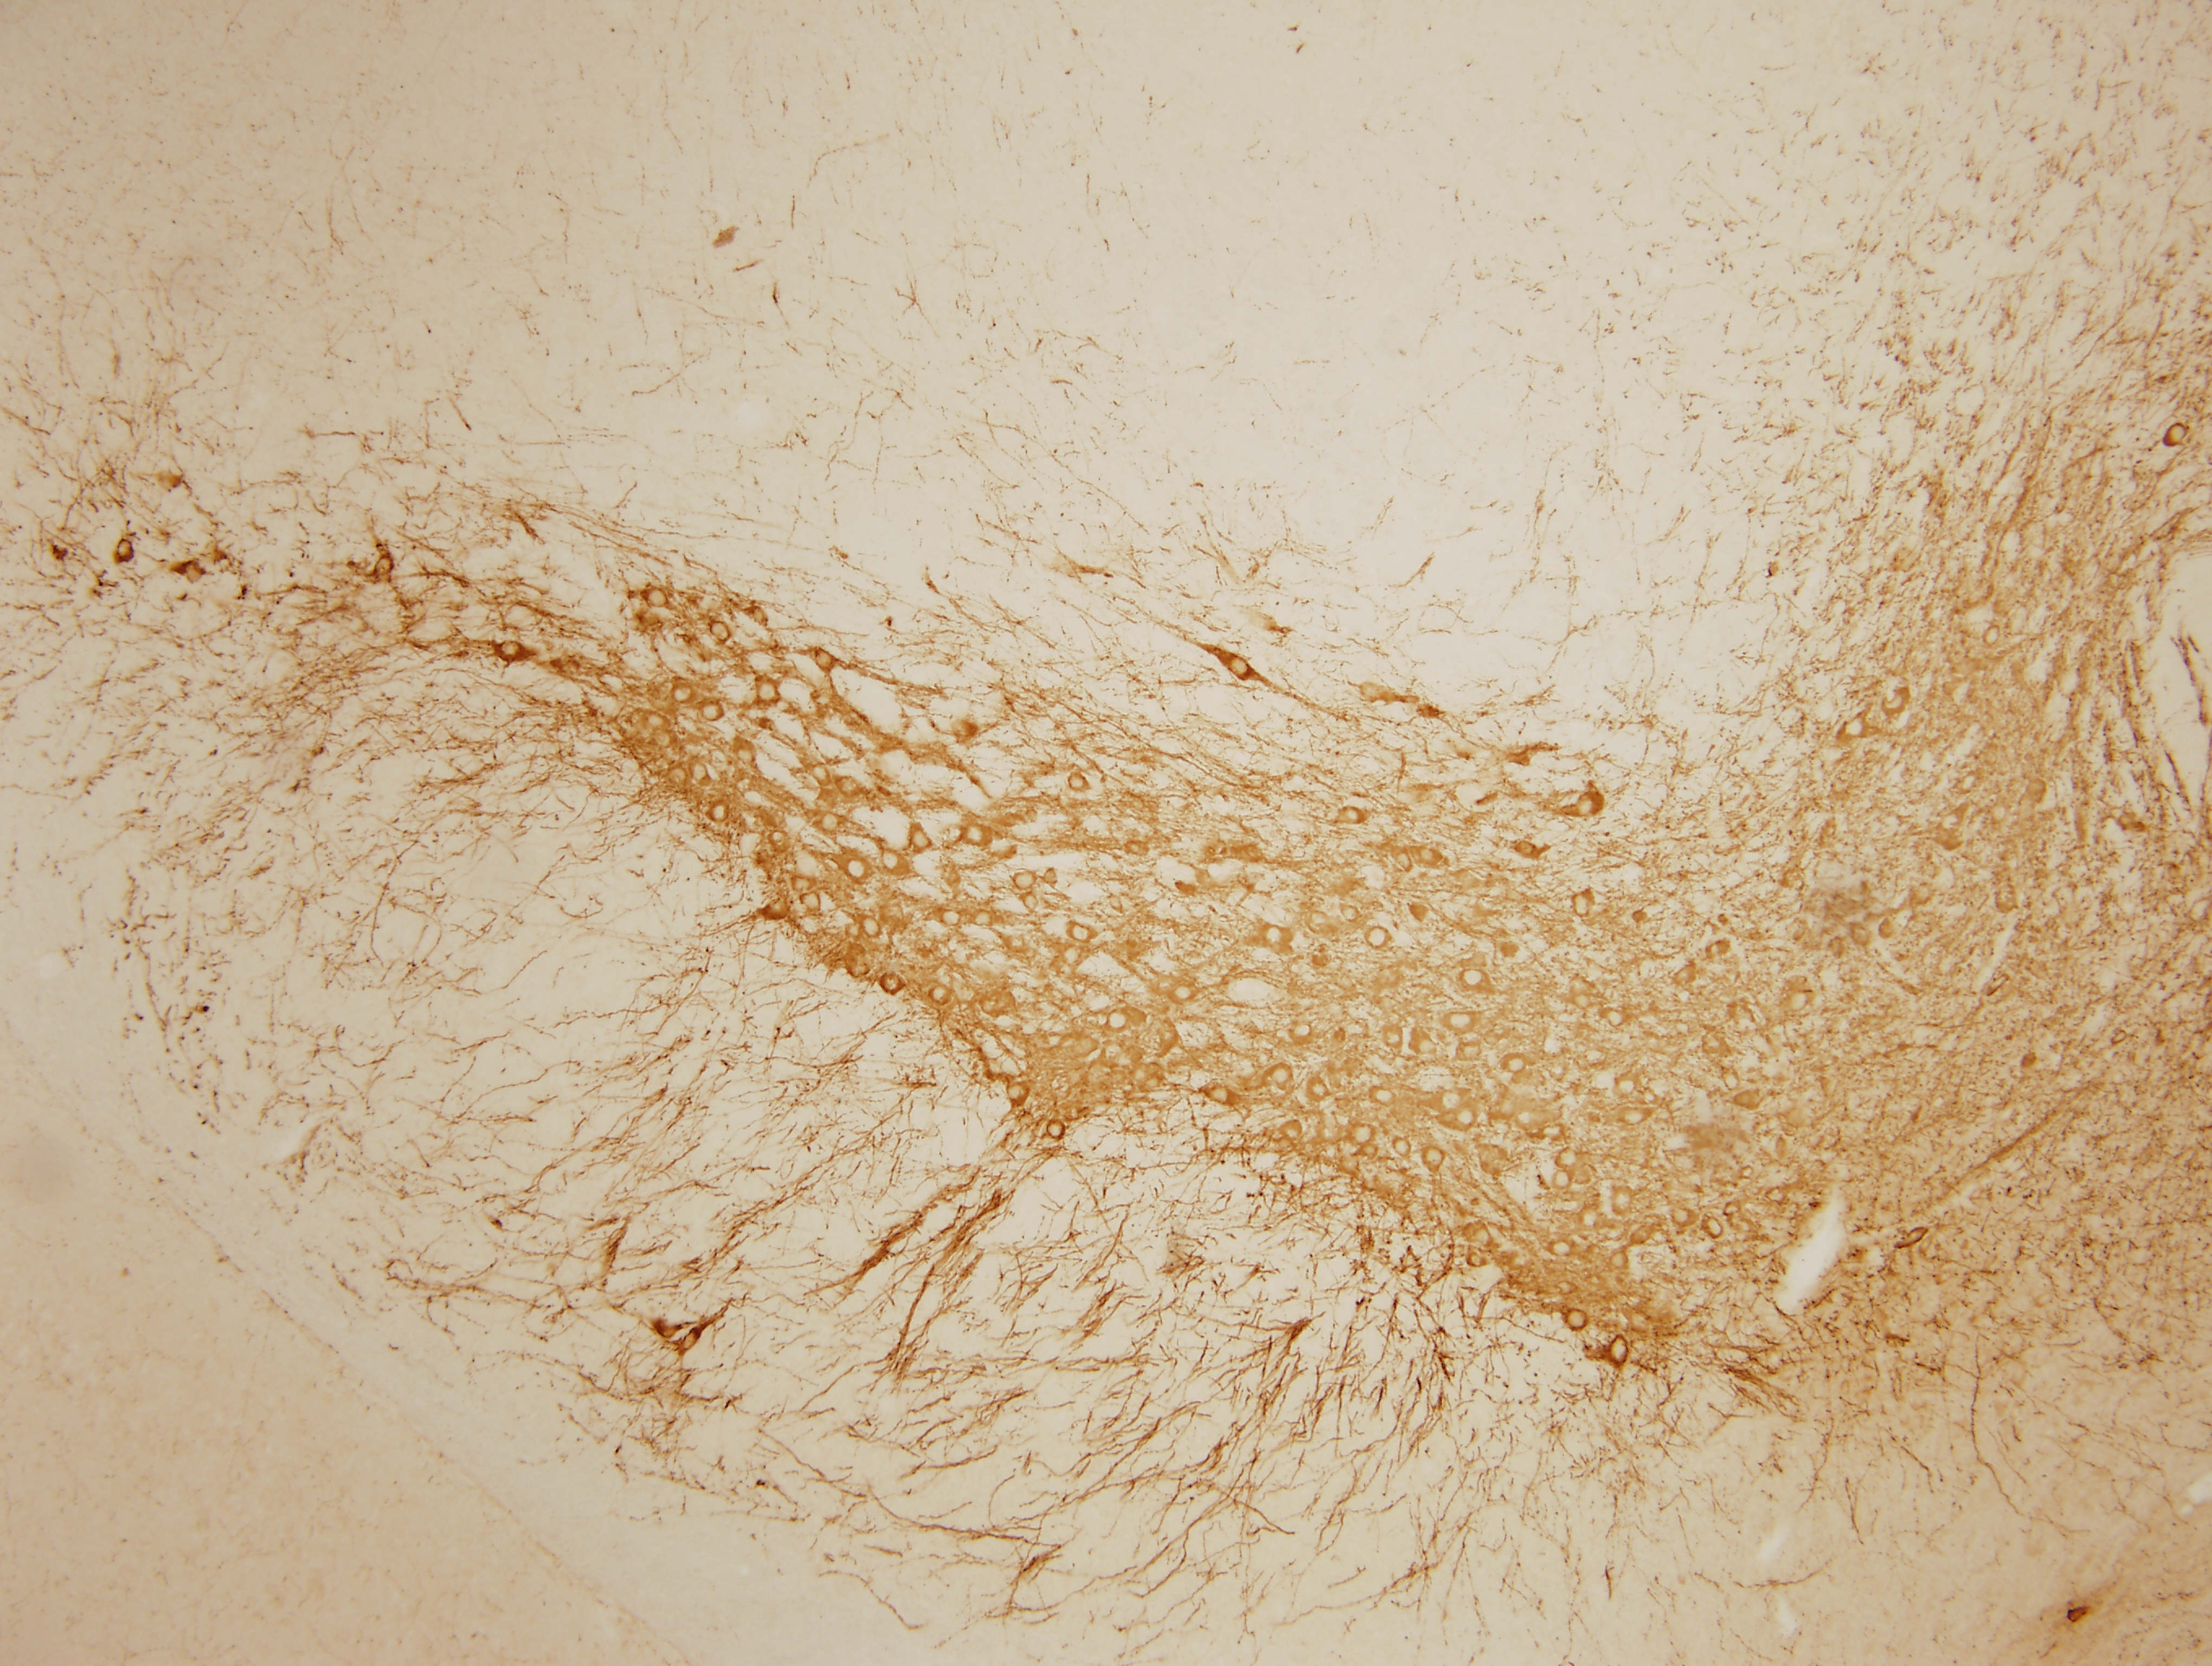neuron: (1603, 1333, 1637, 1367), (1896, 1223, 1929, 1256), (2161, 418, 2195, 452), (1436, 1085, 1467, 1118), (1840, 714, 1873, 746), (643, 707, 670, 733), (645, 586, 671, 613), (685, 760, 712, 786), (699, 700, 726, 726), (706, 800, 733, 826), (708, 620, 734, 646), (733, 746, 759, 772), (755, 681, 782, 707), (799, 889, 825, 915), (806, 761, 832, 788), (811, 646, 838, 672), (817, 810, 843, 836), (859, 915, 885, 941), (876, 845, 902, 871), (929, 982, 955, 1008), (939, 905, 965, 931), (962, 823, 988, 849), (969, 906, 995, 933), (1018, 891, 1044, 917), (1044, 1118, 1070, 1145), (1060, 945, 1086, 971), (1065, 770, 1091, 796), (1105, 1006, 1131, 1032), (112, 537, 138, 563), (1170, 982, 1196, 1008), (1207, 1081, 1233, 1108), (1226, 655, 1252, 681), (1261, 922, 1287, 949), (1289, 1019, 1315, 1045), (1366, 926, 1392, 952), (1371, 1083, 1397, 1109), (1380, 1027, 1406, 1054), (1415, 1034, 1441, 1061), (1422, 1145, 1448, 1171), (1448, 1008, 1474, 1034), (1453, 1104, 1479, 1130), (1457, 1039, 1483, 1066), (1502, 1052, 1528, 1078), (1555, 1145, 1581, 1171), (1569, 893, 1595, 919), (1577, 1208, 1603, 1234), (1610, 1188, 1637, 1215), (1621, 1106, 1647, 1132), (1701, 1215, 1728, 1241), (1787, 989, 1813, 1015), (1957, 772, 1983, 798), (1979, 623, 2006, 649), (2107, 1026, 2133, 1052), (371, 553, 397, 579), (498, 637, 525, 663), (670, 681, 694, 707), (834, 773, 860, 798), (843, 854, 867, 880), (880, 971, 904, 998), (906, 830, 932, 854), (1005, 1080, 1030, 1106), (1012, 868, 1039, 893), (1068, 921, 1095, 945), (1269, 1064, 1294, 1090), (1278, 1122, 1304, 1146), (1308, 1078, 1332, 1104), (1339, 900, 1364, 926), (1350, 1122, 1376, 1146), (1460, 966, 1486, 991), (1469, 1225, 1493, 1251), (1548, 1237, 1572, 1263), (1549, 1169, 1576, 1193), (1563, 1307, 1589, 1332), (1572, 795, 1596, 821), (1603, 1006, 1628, 1032), (1616, 1074, 1642, 1099), (1721, 1071, 1742, 1092), (1516, 838, 1535, 859), (768, 830, 787, 849), (1343, 805, 1362, 824), (1394, 851, 1413, 870), (1394, 1138, 1413, 1157), (1416, 843, 1436, 863), (1465, 1249, 1485, 1269), (1516, 1108, 1535, 1127), (1610, 1251, 1630, 1270), (1672, 1208, 1691, 1227), (1738, 1164, 1757, 1183)
